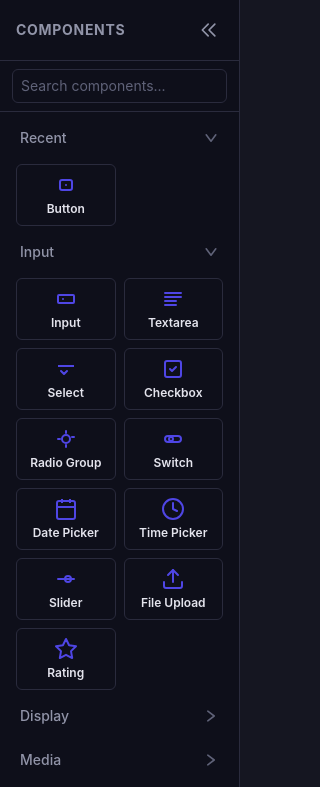
ComponentPalette › Recent components (IMP-002) › does not show recent section when search is active
Type "button" into the field with test id "palette-search" at (120, 86), box [12,69,227,103]
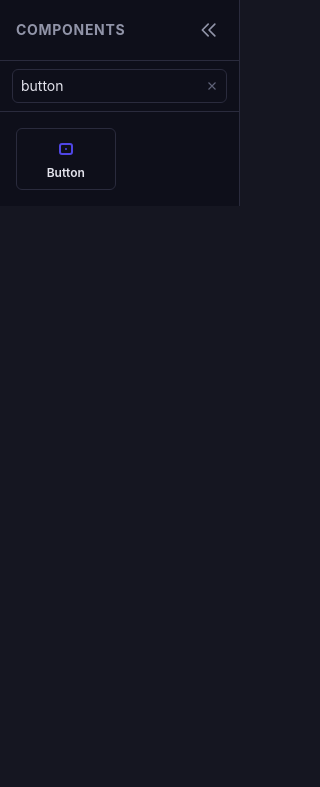
Result: the button "Recent" is gone
